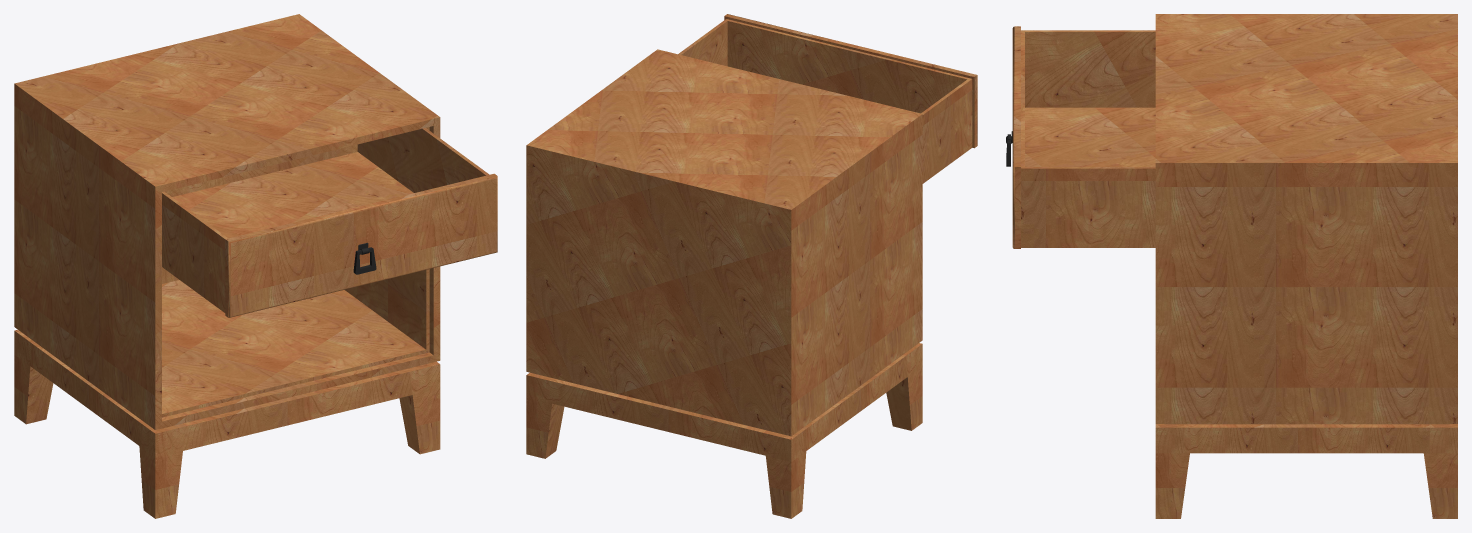
File: nightstand.dae
3 renders of one model, left to right at view 1: azimuth 30°, elevation 25°; view 2: azimuth 150°, elevation 25°; view 3: azimuth 270°, elevation 25°, orthographic. The views are drawn at different scales.
Visible parts, largest first — view 1: nightstand_box (×2), nightstand_draw (×2), nightstand_drawer_front, nightsand_leg_connection (×2), Mansfield_Nightstand_leg (×3); view 2: nightstand_box, nightstand_draw (×2), nightsand_leg_connection (×2), Mansfield_Nightstand_leg (×3), nightstand_drawer_front; view 3: nightstand_box, nightstand_draw (×2), nightsand_leg_connection (×3), Mansfield_Nightstand_leg (×2), nightstand_drawer_front.
Boxes of the visible parts, x1,y1,x2,y2 form: nightstand_box (×2): (14,14,440,429); nightstand_draw (×2): (162,128,489,312); nightstand_drawer_front: (225,173,497,317); nightsand_leg_connection (×2): (27,339,439,457); Mansfield_Nightstand_leg (×3): (14,330,440,518); nightstand_box: (526,49,922,436); nightstand_draw (×2): (678,19,972,183); nightsand_leg_connection (×2): (526,355,907,461); Mansfield_Nightstand_leg (×3): (526,344,922,518); nightstand_drawer_front: (724,14,977,148); nightstand_box: (1155,14,1457,423); nightstand_draw (×2): (1021,30,1155,247); nightsand_leg_connection (×3): (1155,424,1457,453); Mansfield_Nightstand_leg (×2): (1155,424,1457,518); nightstand_drawer_front: (1012,26,1020,248).
Bounding box in the file's own units: 21 × 26.92 × 23.4.
2 materials, 1 textured.
